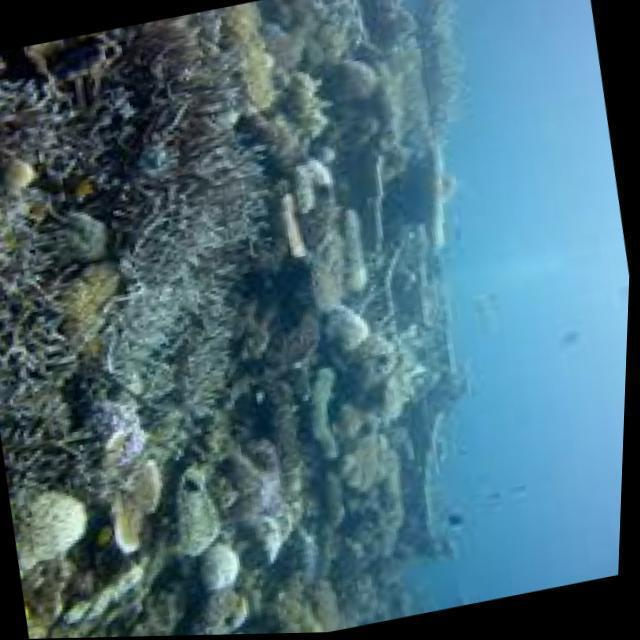Dead Coral: (80, 2, 295, 292), (76, 239, 265, 448), (0, 226, 107, 504), (0, 37, 93, 207)
